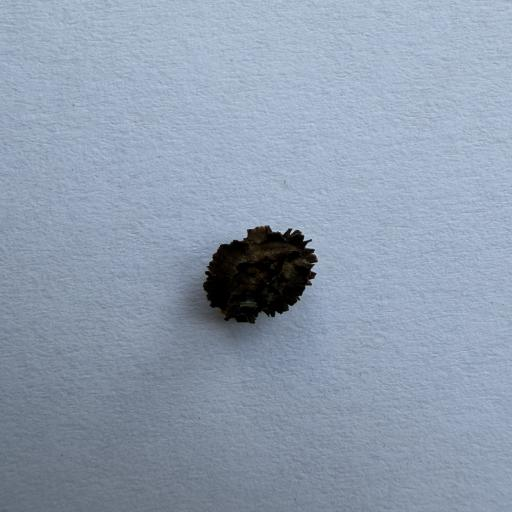papaya_seed: (147, 181, 364, 354)
